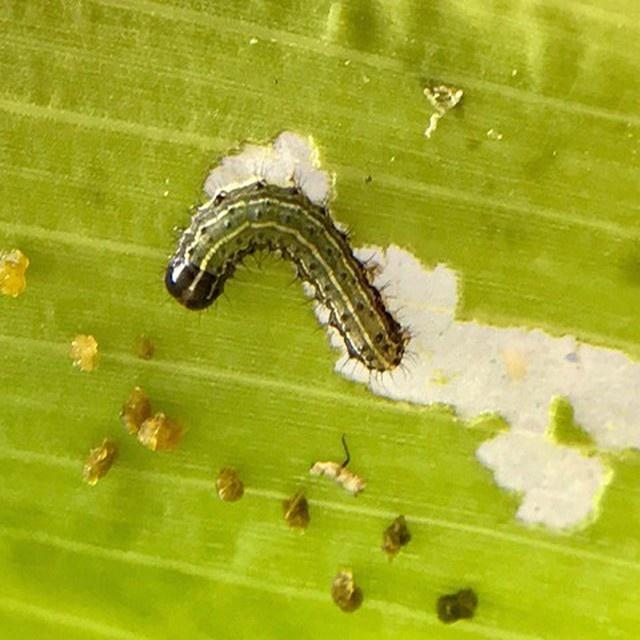gusano_cogollero: (166, 175, 414, 376)
